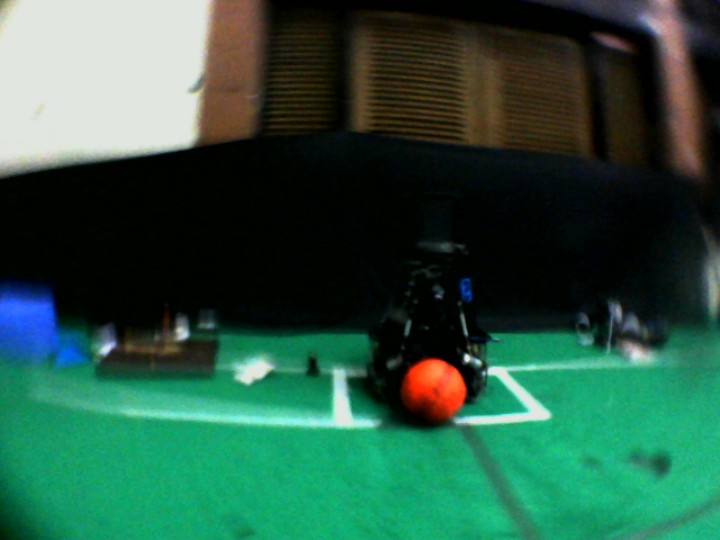bola: (397, 359, 473, 429)
